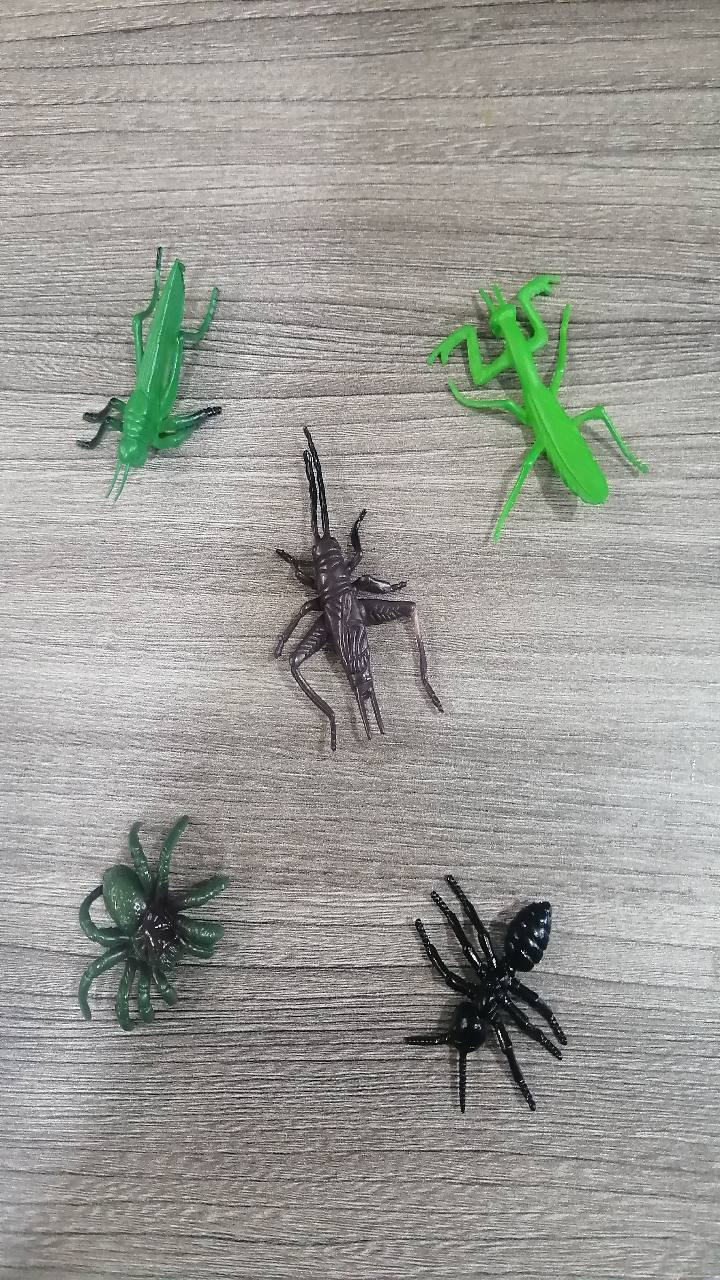intruso: (403, 232, 657, 579), (240, 417, 455, 763), (372, 845, 609, 1129), (55, 239, 244, 508), (41, 800, 255, 1035)
